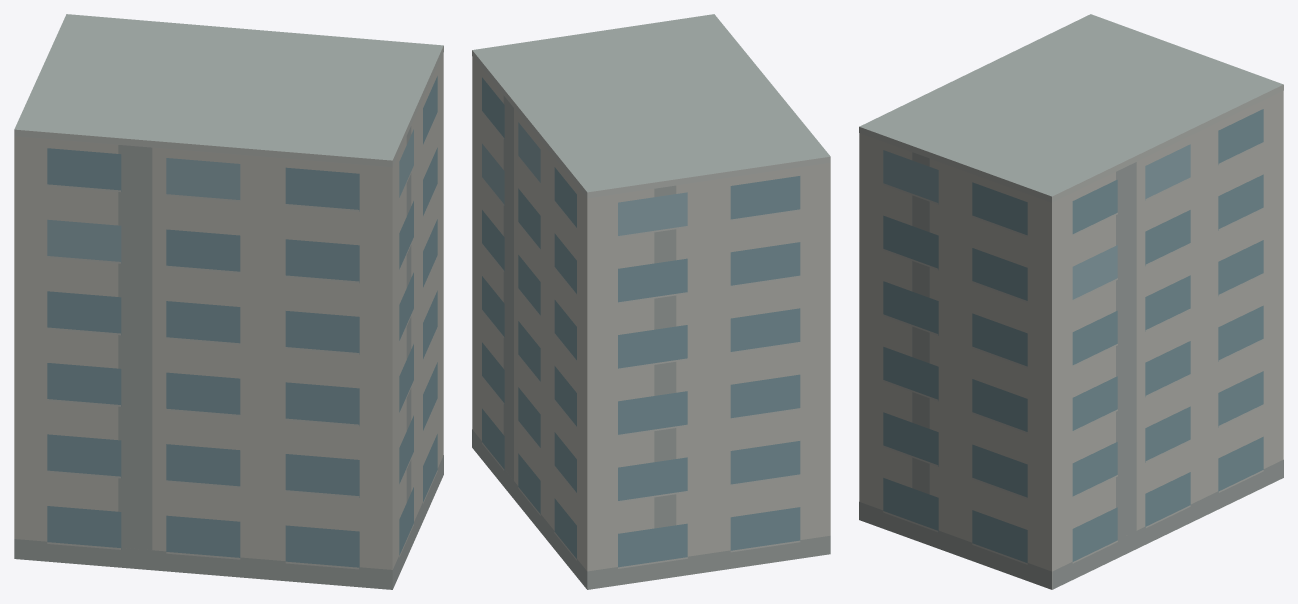
Rendered from survey-upis-32952539.glb.
3 views of the same model, side by side, from view 1: azimuth 30°, elevation 25°; view 2: azimuth 150°, elevation 25°; view 3: azimuth 270°, elevation 25° (orthographic). The views are drawn at different scales.
Visible parts, largest first — view 1: survey-upis-32952539.tmp; view 2: survey-upis-32952539.tmp; view 3: survey-upis-32952539.tmp.
Boxes of the visible parts, x1=… form: survey-upis-32952539.tmp: x1=14, y1=14, x2=443, y2=589; survey-upis-32952539.tmp: x1=472, y1=14, x2=830, y2=589; survey-upis-32952539.tmp: x1=859, y1=14, x2=1283, y2=589.
Size of the model in its own units: 15.54 by 15.6 by 15.27.
